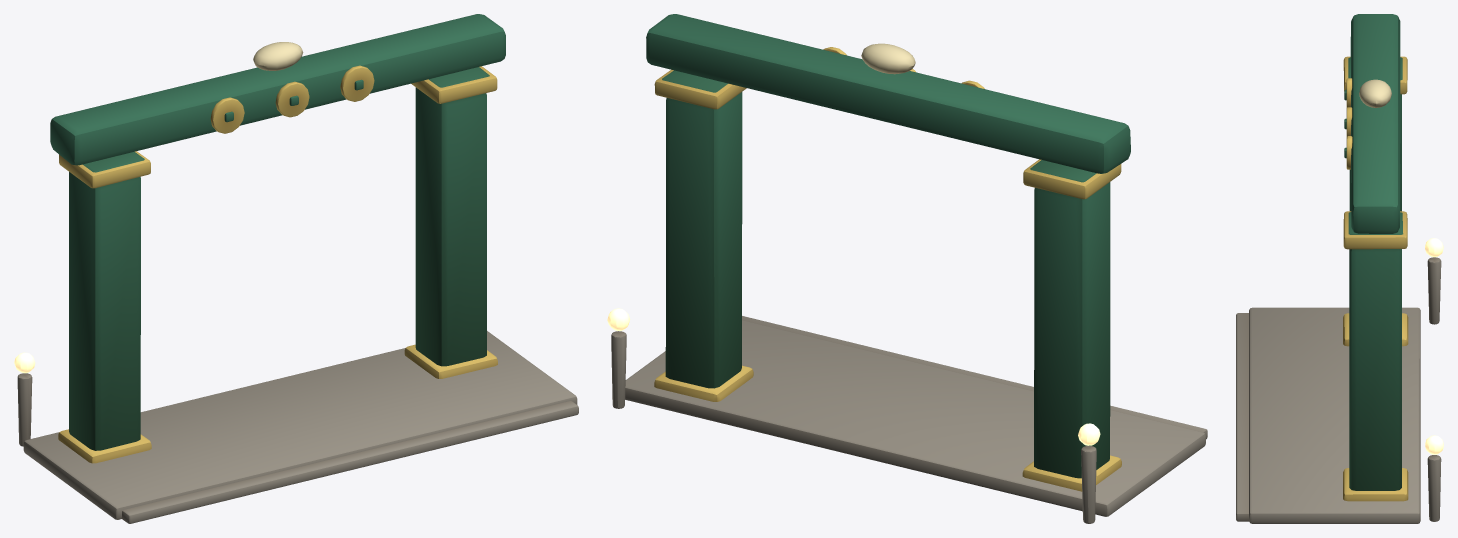
3 views of the same model, side by side, from view 1: azimuth 30°, elevation 25°; view 2: azimuth 150°, elevation 25°; view 3: azimuth 270°, elevation 25° (orthographic). The views are drawn at different scales.
Parts seen in each view (by area): view 1: gate_97cc2f68; view 2: gate_97cc2f68; view 3: gate_97cc2f68.
Part boxes in pixels (x1,y1,x2,y2): gate_97cc2f68: (14, 14, 578, 523); gate_97cc2f68: (607, 14, 1207, 523); gate_97cc2f68: (1236, 14, 1443, 523).
Size of the model in its own units: 5.99 by 4.57 by 2.55.
